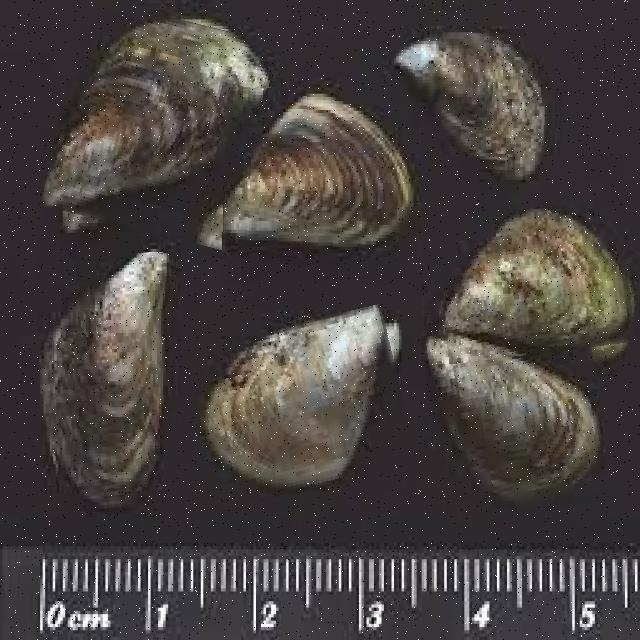Dreissena_bugensis: (419, 201, 636, 522), (50, 8, 273, 242), (194, 314, 410, 500), (33, 253, 181, 512), (426, 317, 609, 520), (224, 89, 416, 263), (436, 204, 632, 360), (391, 29, 548, 188)
